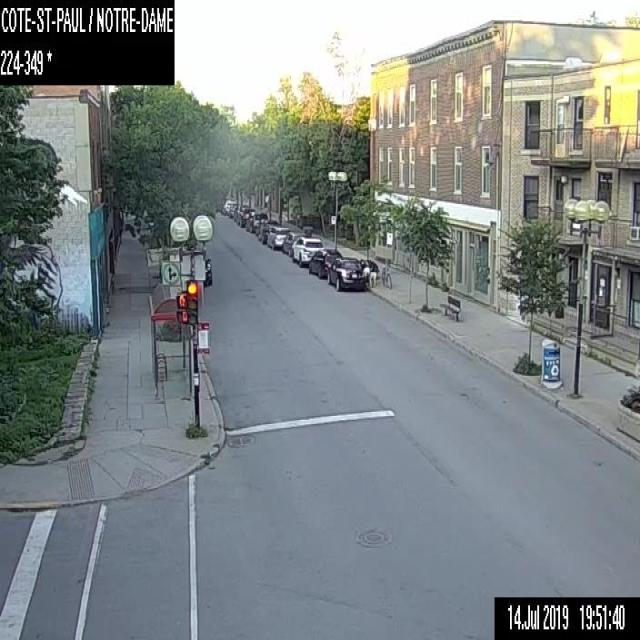pedestrian: (367, 256, 377, 285), (360, 257, 370, 286)
vehicle: (327, 256, 364, 291), (291, 236, 324, 266), (308, 248, 342, 276), (282, 232, 305, 256), (266, 226, 290, 249), (245, 211, 267, 234), (257, 219, 278, 243), (238, 207, 255, 226), (202, 256, 212, 286), (222, 200, 236, 215)
